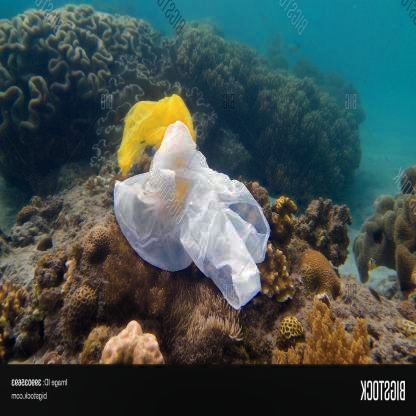pbag: (115, 120, 270, 309), (117, 93, 197, 180)
